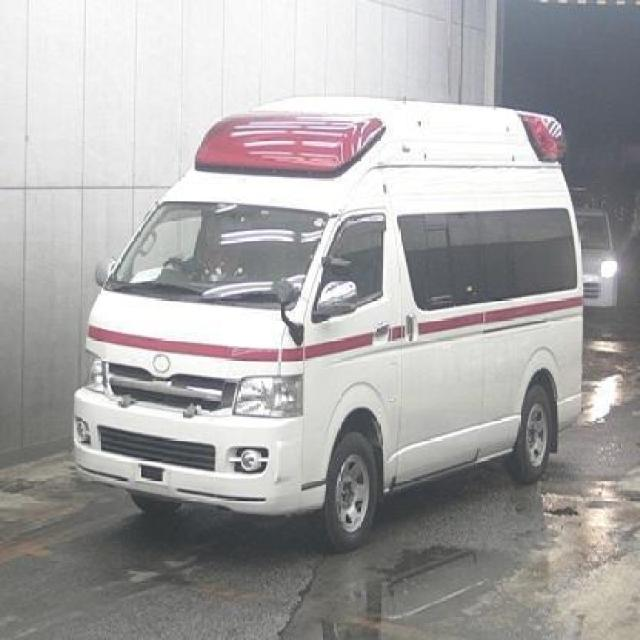Ambulance: (63, 60, 603, 498)
